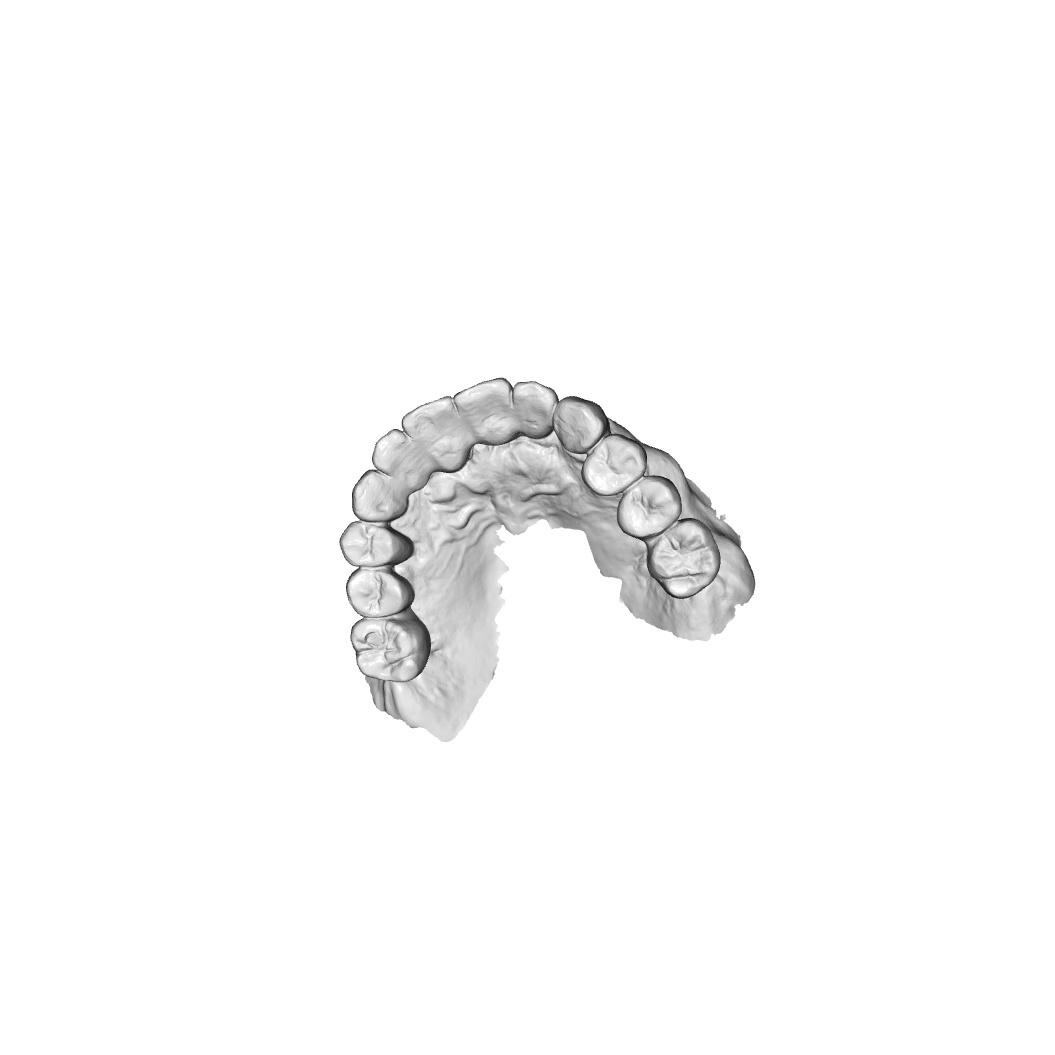canine: (551, 394, 611, 455), (349, 469, 409, 523)
incisor: (401, 395, 471, 474), (453, 377, 514, 447), (371, 428, 432, 489), (512, 380, 560, 442)
molar: (349, 605, 433, 684), (646, 517, 722, 599)
premolar: (616, 474, 683, 540), (581, 433, 648, 497), (344, 568, 416, 619), (339, 520, 415, 568)
